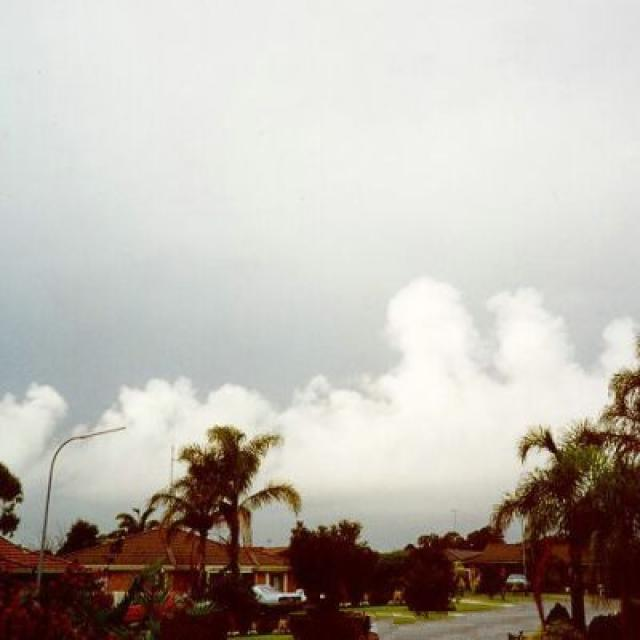St: (1, 156, 640, 453)
